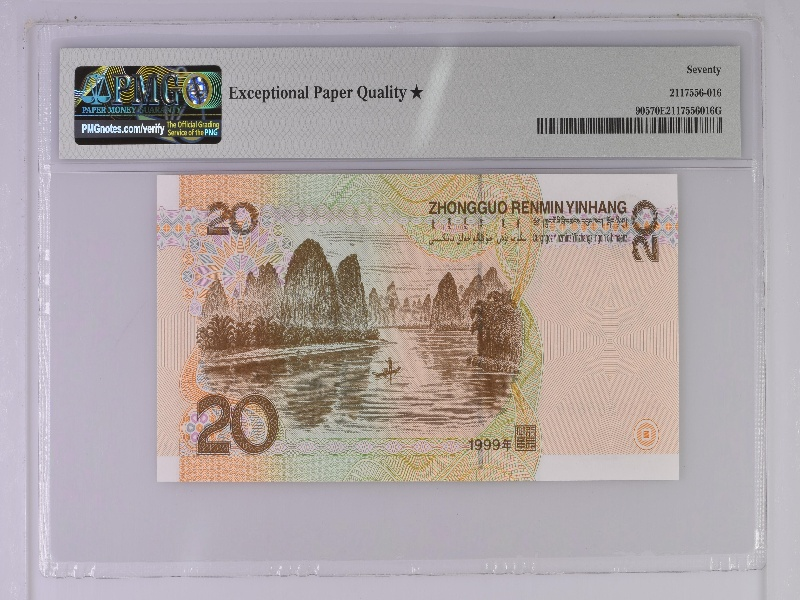papernote: (155, 171, 683, 487)
